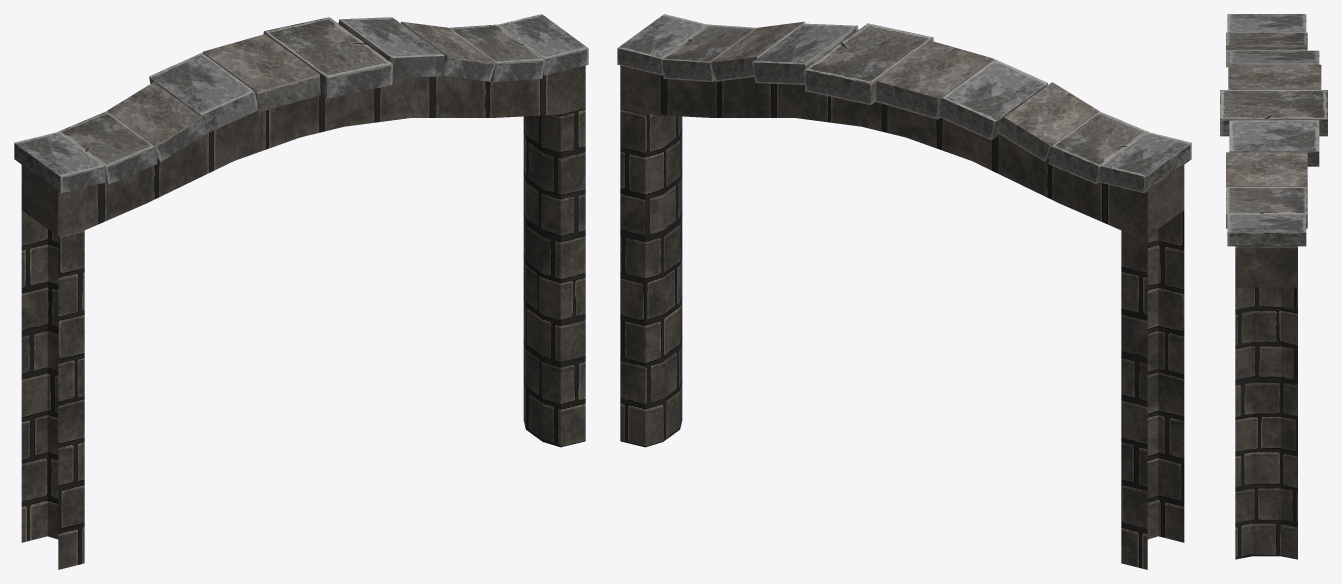
The model's file is Arc01.fbx.
The picture shows the model from 3 angles, left to right: view 1: azimuth 30°, elevation 25°; view 2: azimuth 150°, elevation 25°; view 3: azimuth 270°, elevation 25°; orthographic projection. The views are drawn at different scales.
Visible parts, largest first — view 1: Cube, Cube.001; view 2: Cube, Cube.001; view 3: Cube.001, Cube.
Part boxes in pixels (x1,y1,x2,y2): Cube: (21, 65, 585, 569); Cube.001: (14, 14, 588, 193); Cube: (620, 65, 1184, 569); Cube.001: (617, 14, 1191, 193); Cube.001: (1220, 14, 1327, 246); Cube: (1235, 246, 1297, 559).
Bounding box in the file's own units: 3.31 × 2.6 × 0.6884.
2 materials, 2 textured.
